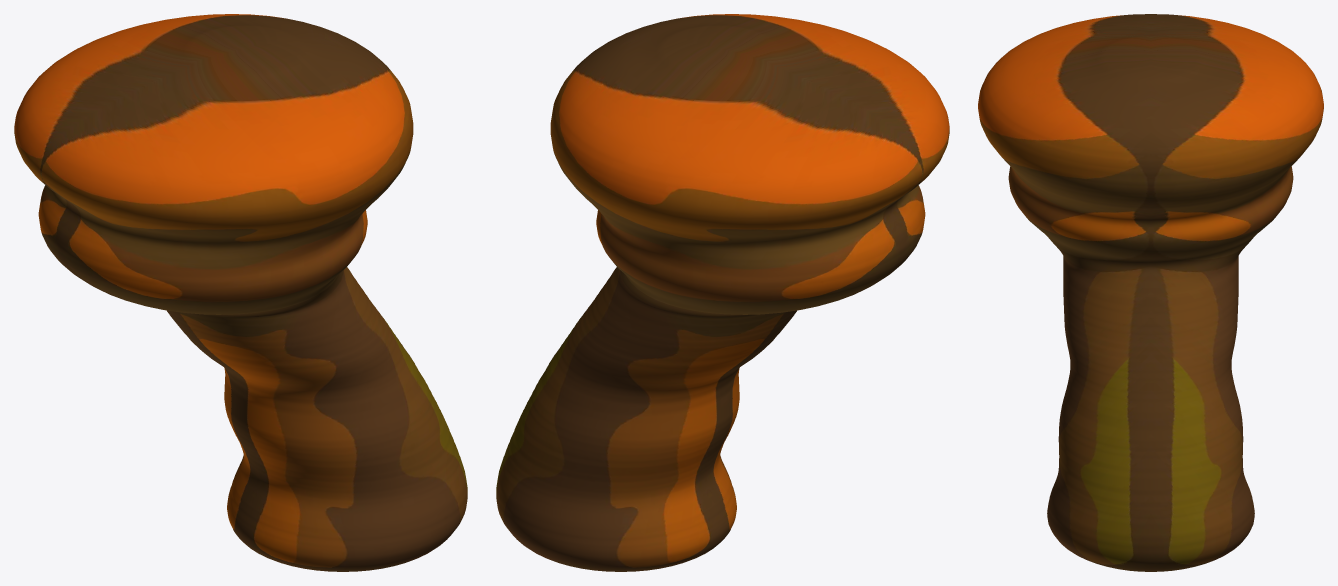
Rendered from orange_mushroom.glb.
3 views of the same model, side by side, from view 1: azimuth 30°, elevation 25°; view 2: azimuth 150°, elevation 25°; view 3: azimuth 270°, elevation 25° (orthographic). The views are drawn at different scales.
Parts seen in each view (by area): view 1: orange_mushroom; view 2: orange_mushroom; view 3: orange_mushroom.
Part boxes in pixels (<box>): orange_mushroom: <box>14,14,467,571</box>; orange_mushroom: <box>496,14,949,571</box>; orange_mushroom: <box>978,14,1323,571</box>.
Size of the model in its own units: 0.9985 by 1.2 by 0.84.
Materials: 1 (1 with a texture image).
